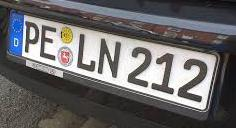1: (151, 52, 175, 95)
2: (177, 58, 208, 103), (127, 46, 152, 88)
E: (40, 24, 57, 61)
L: (76, 33, 96, 72)
N: (97, 38, 121, 79)
P: (23, 20, 40, 55)
